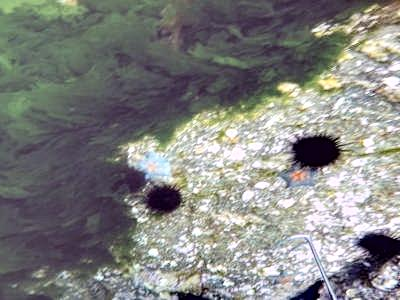urchin: (292, 133, 337, 165), (357, 230, 395, 257), (149, 185, 181, 211)
